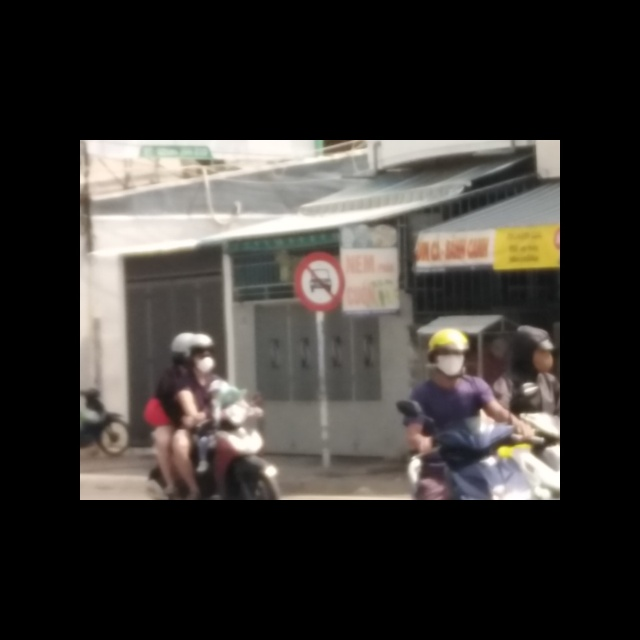Cấm xe ô tô: (291, 250, 346, 313)
